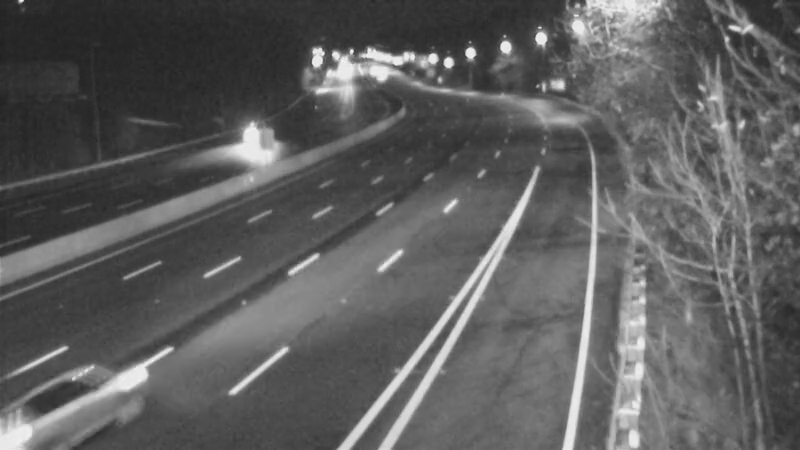vehicle: (31, 341, 141, 450), (222, 116, 272, 166)
